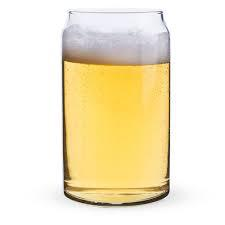beer: (60, 8, 172, 208)
